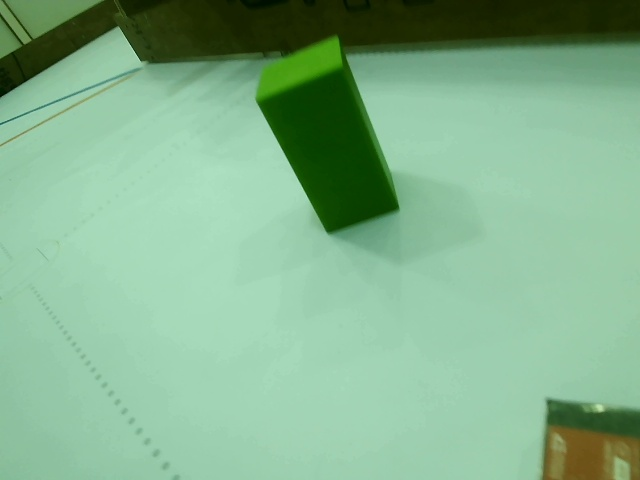green: (258, 66, 403, 220)
